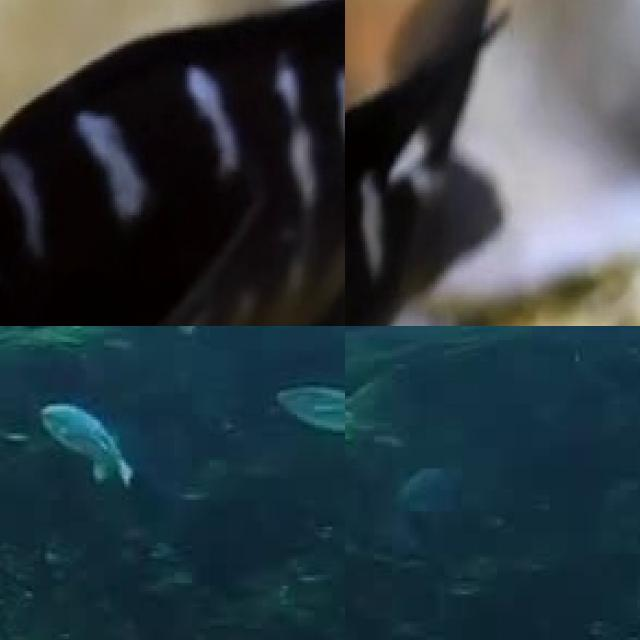fish: (0, 0, 345, 326)
